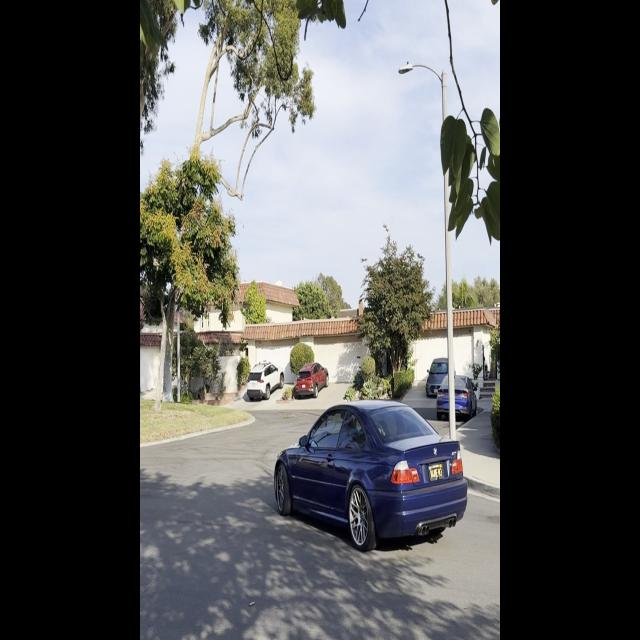Carbeetle: (271, 388, 471, 559)
Civilian: (432, 369, 479, 426), (245, 356, 286, 404), (425, 347, 456, 399), (294, 357, 331, 399)
